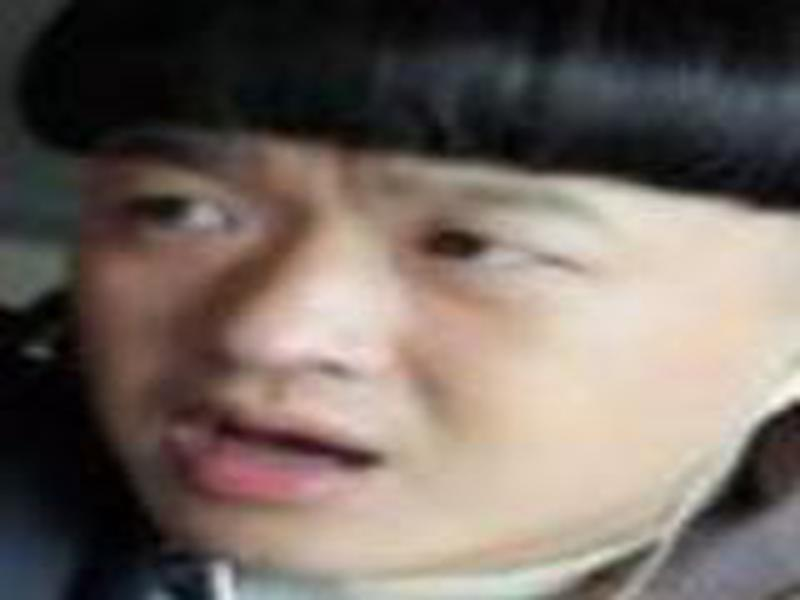without_mask: (83, 110, 791, 568)
